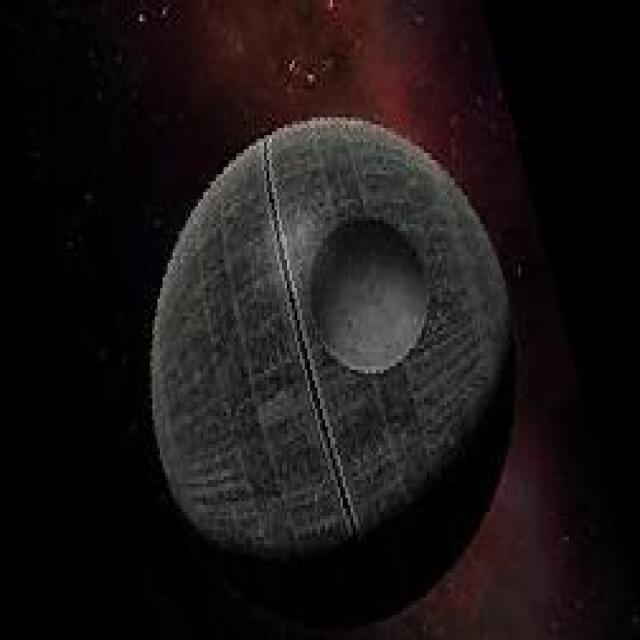Death Star: (142, 107, 518, 583)
